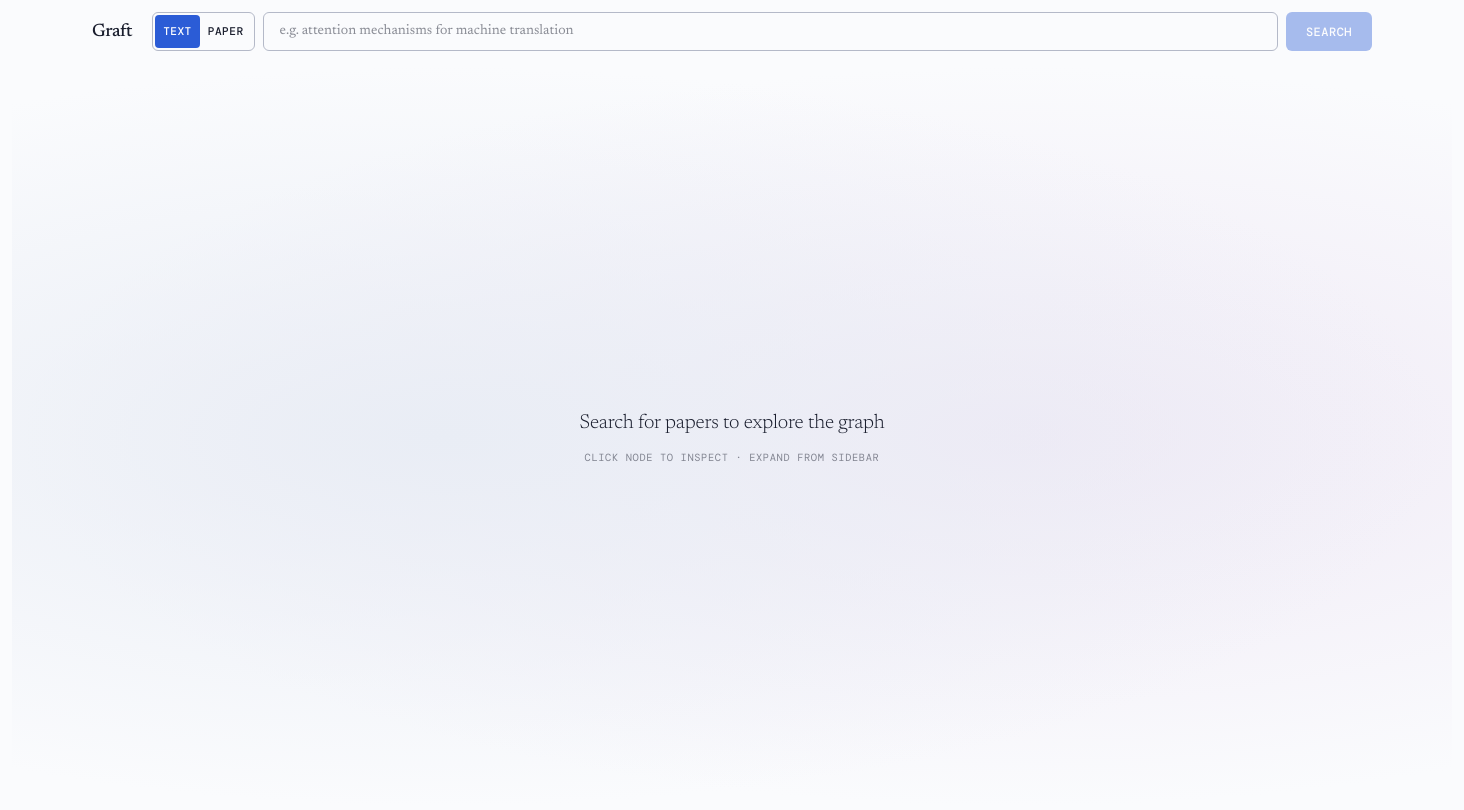
Test case: App › searches, renders the graph, and syncs the URL
Type "attention" into the field.
click(770, 32); type("attention")  # box top-left (263, 12), bottom-right (1278, 51)
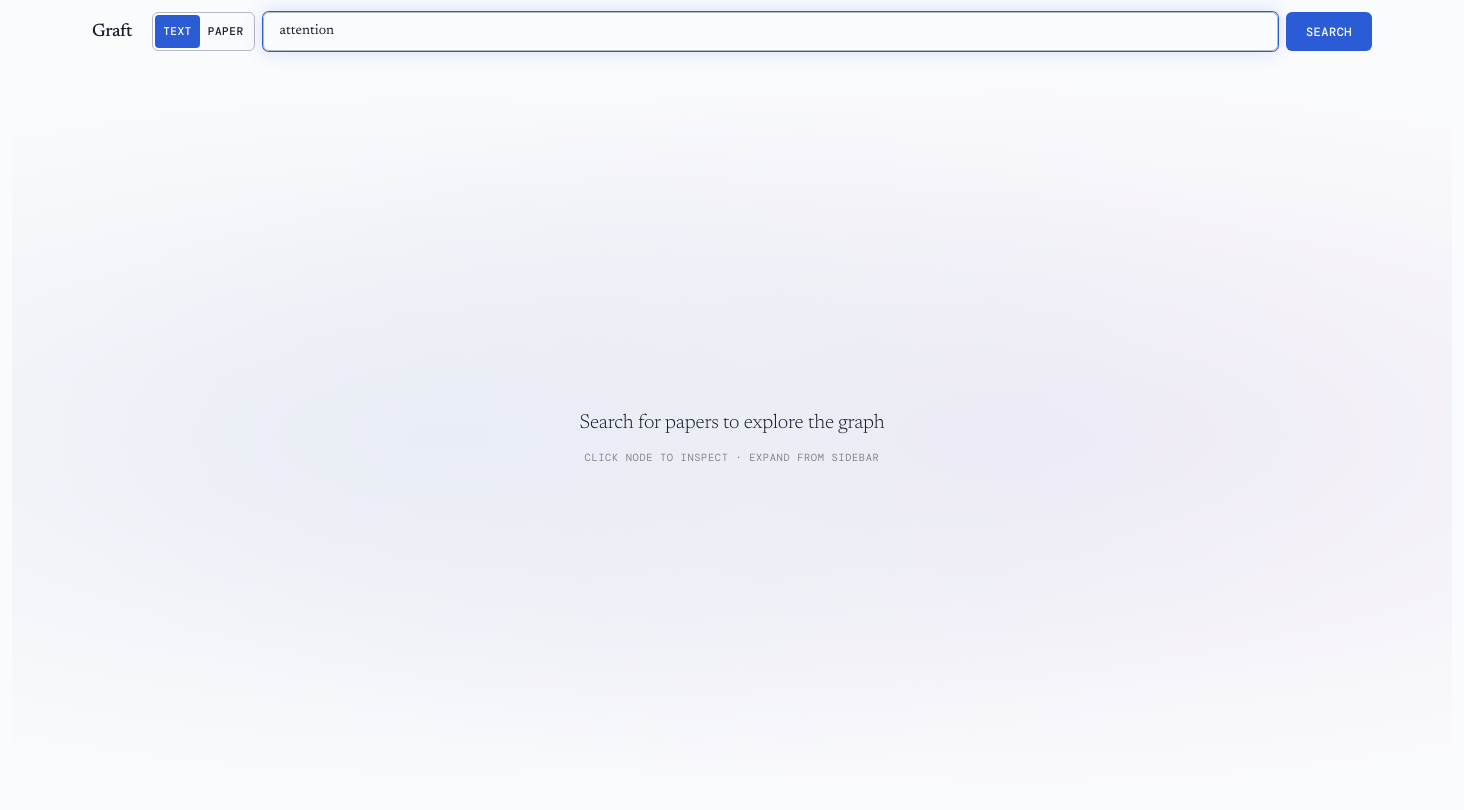
Click the button "Search".
click(1329, 32)  # box top-left (1286, 12), bottom-right (1372, 51)
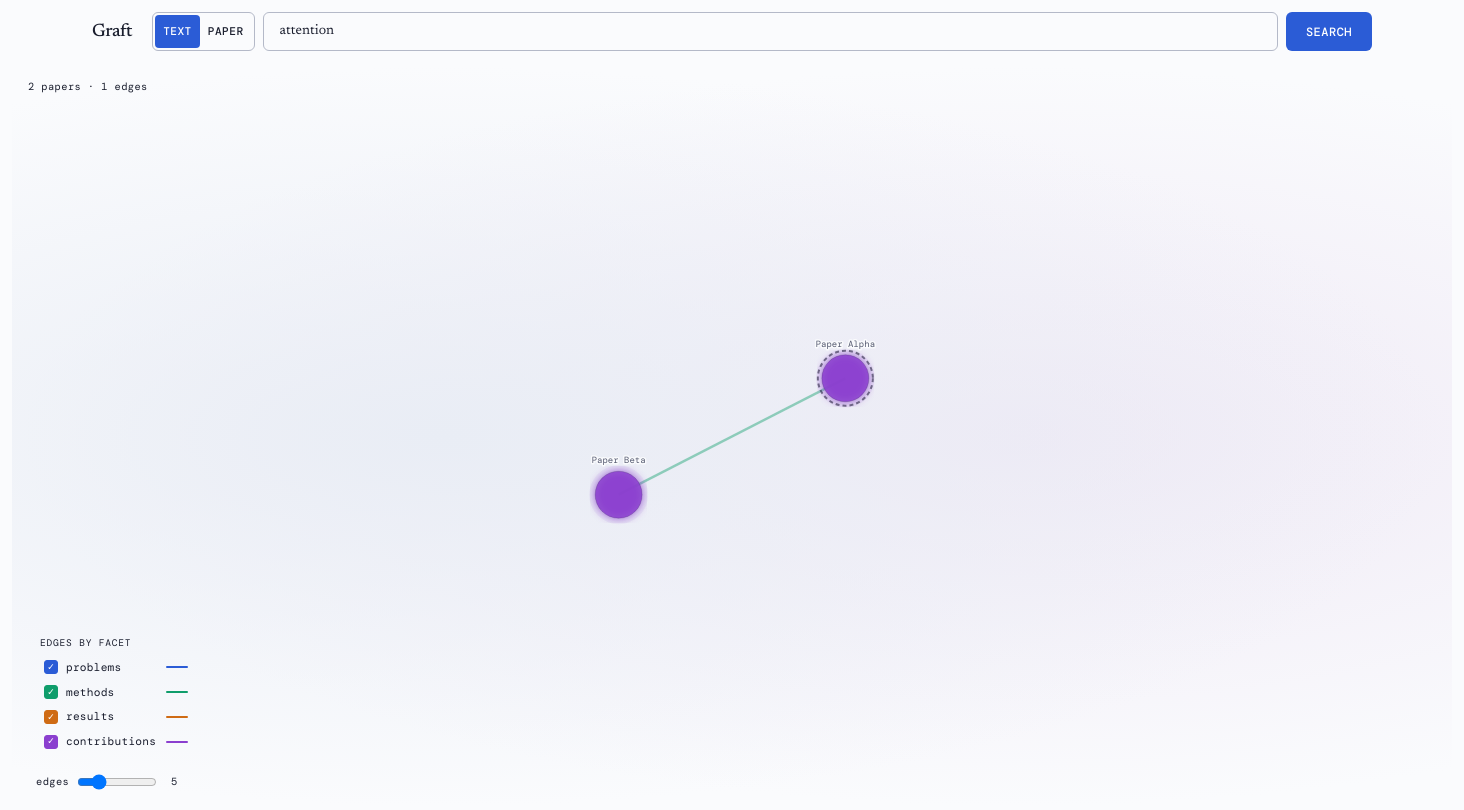
expect the element named "Paper Alpha" is shown: met, box top-left (822, 355), bottom-right (869, 402)
expect the text "2 papers · 1 edges" is shown: met, box top-left (28, 79), bottom-right (148, 95)
